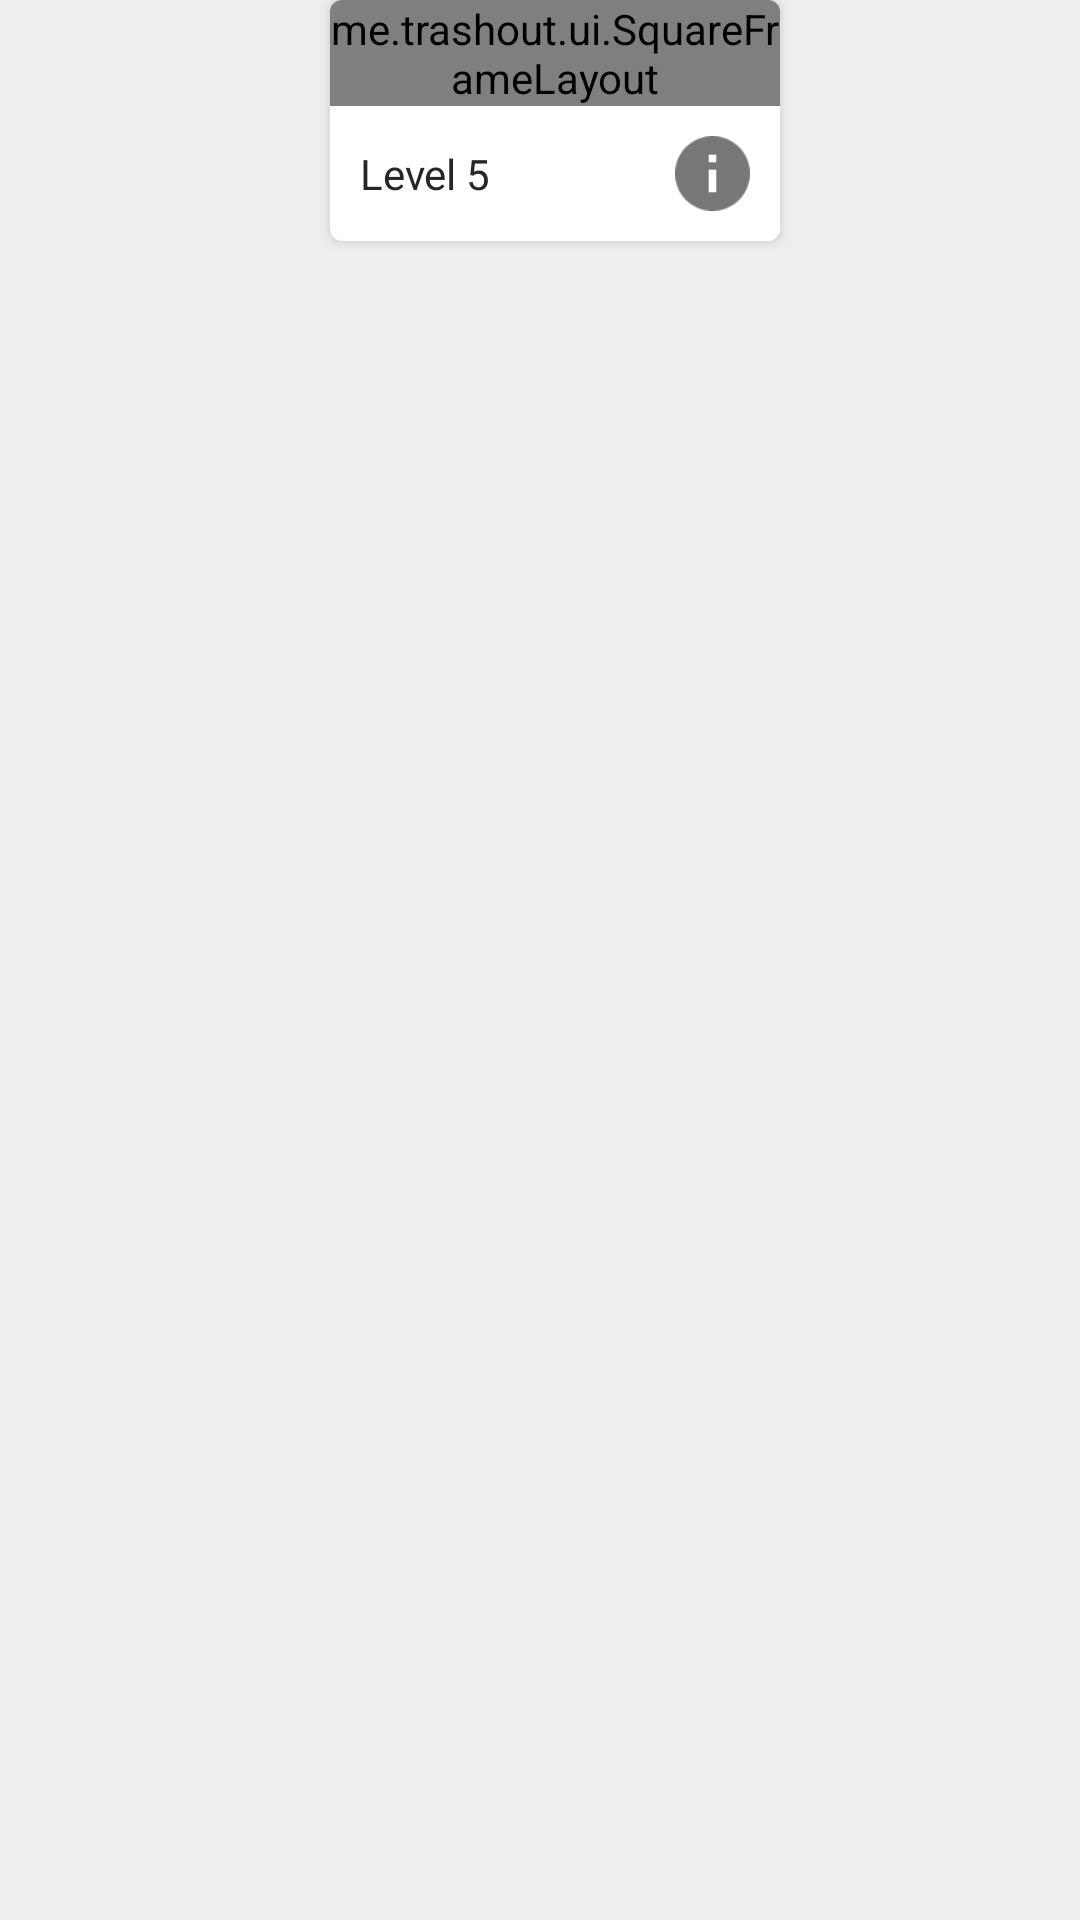

Icons on this 1080 × 1920 Android screen, each with the point to tap as (x=x, y=y):
badge info: (x=712, y=173)
